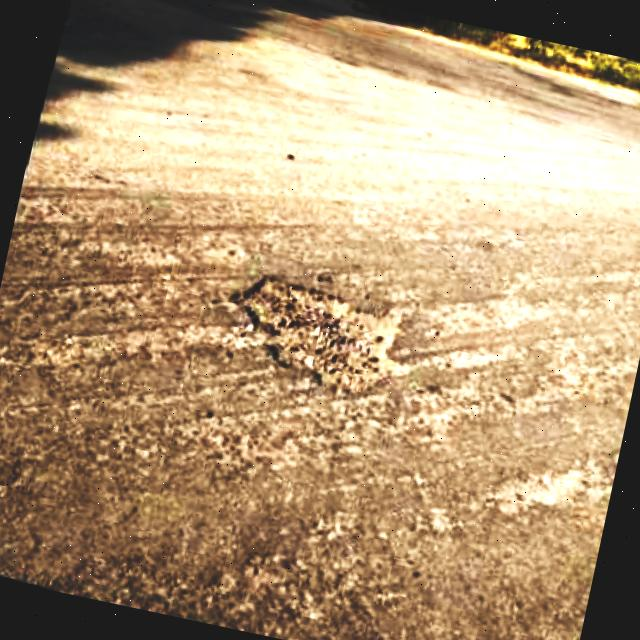pothole: (223, 263, 411, 406)
